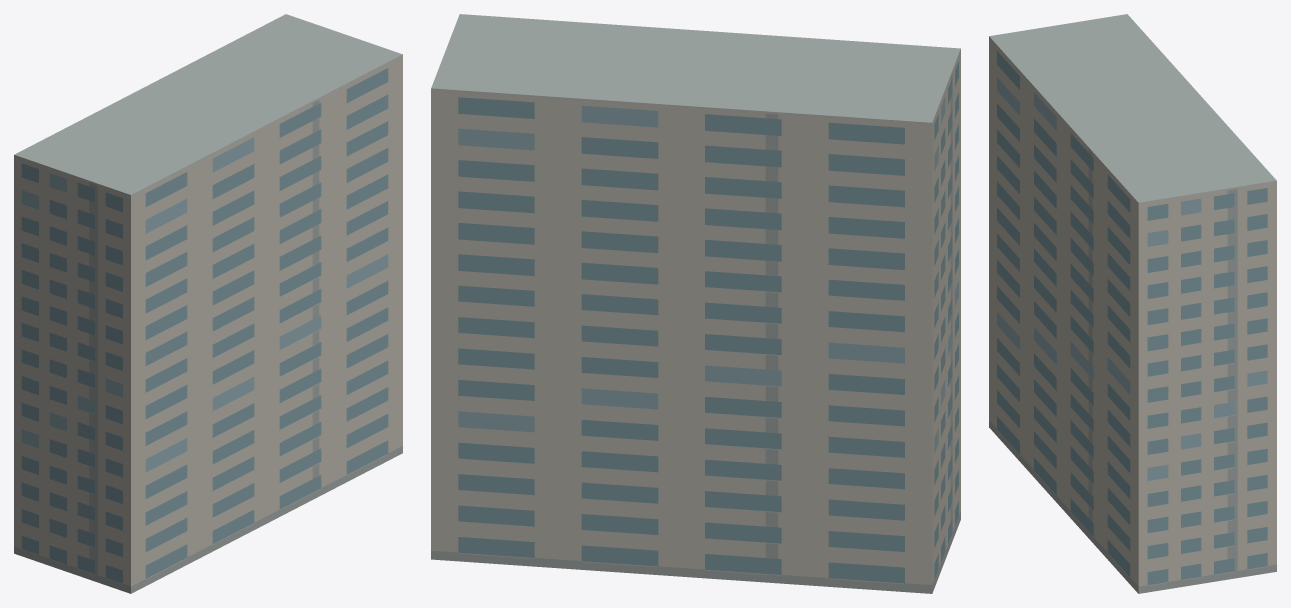
File: residential-6e22ef20-cbde-4d2c-8e43-41bb70c06046.glb
3 renders of one model, left to right at view 1: azimuth 30°, elevation 25°; view 2: azimuth 150°, elevation 25°; view 3: azimuth 270°, elevation 25°, orthographic. The views are drawn at different scales.
Parts seen in each view (by area): view 1: residential-6e22ef20-cbde-4d2c-8e43-41bb70c06046.tmp; view 2: residential-6e22ef20-cbde-4d2c-8e43-41bb70c06046.tmp; view 3: residential-6e22ef20-cbde-4d2c-8e43-41bb70c06046.tmp.
Part boxes in pixels (bbox=[...]): residential-6e22ef20-cbde-4d2c-8e43-41bb70c06046.tmp: bbox=[14, 14, 402, 593]; residential-6e22ef20-cbde-4d2c-8e43-41bb70c06046.tmp: bbox=[431, 14, 960, 593]; residential-6e22ef20-cbde-4d2c-8e43-41bb70c06046.tmp: bbox=[989, 14, 1276, 593].
Size of the model in its own units: 50.72 by 49 by 32.68.
